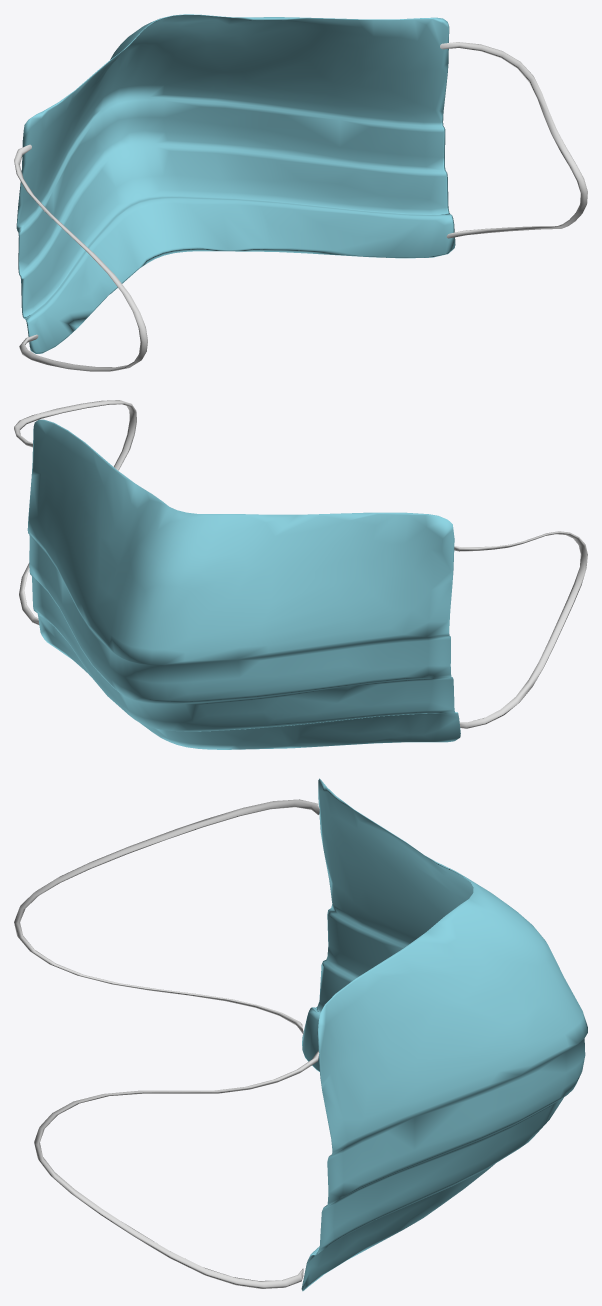
The model's file is Mask.fbx.
3 views of the same model, one above another, from view 1: azimuth 30°, elevation 25°; view 2: azimuth 150°, elevation 25°; view 3: azimuth 270°, elevation 25° (orthographic). The views are drawn at different scales.
Parts seen in each view (by area): view 1: Fabric, String_R, String_L; view 2: Fabric, String_L, String_R; view 3: Fabric, String_L, String_R.
Part boxes in pixels (x1,y1,x2,y2): Fabric: (16, 14, 455, 353); String_R: (440, 42, 587, 238); String_L: (14, 144, 147, 371); Fabric: (27, 419, 460, 749); String_L: (454, 531, 587, 728); String_R: (14, 400, 136, 624); Fabric: (301, 778, 587, 1291); String_L: (14, 799, 319, 1034); String_R: (34, 1050, 319, 1288).
Size of the model in its own units: 39.88 by 18.03 by 33.05.
